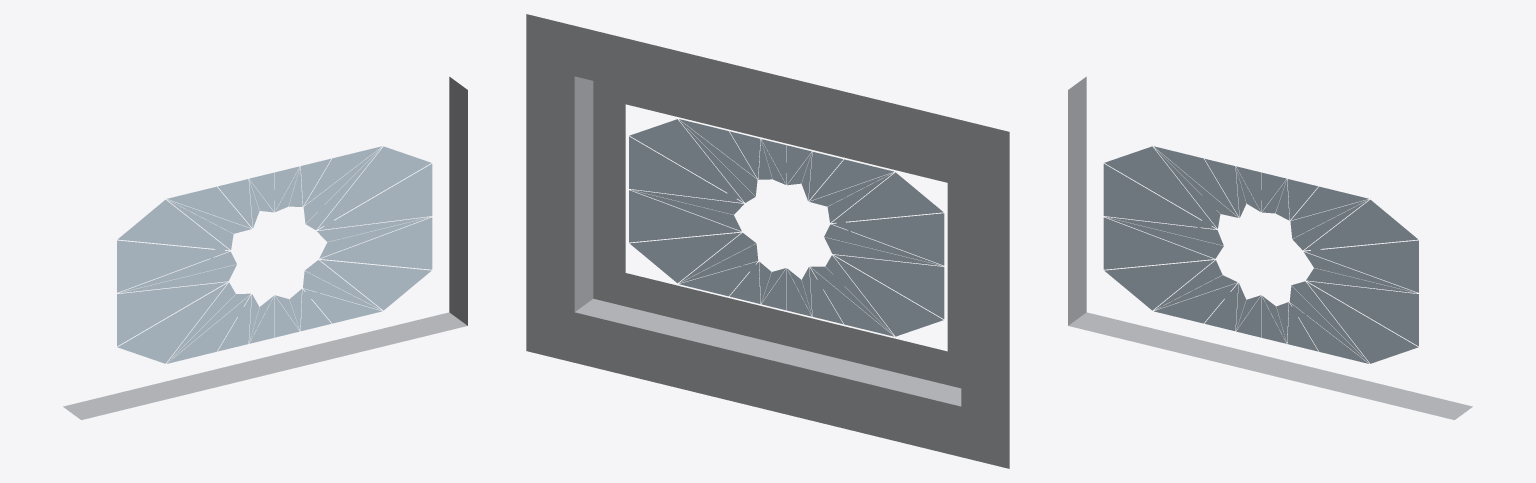
File: Window_broken.gltf
3 views of the same model, side by side, from view 1: azimuth 30°, elevation 25°; view 2: azimuth 150°, elevation 25°; view 3: azimuth 330°, elevation 25° (orthographic).
Visible parts, largest first — view 1: house_type02.001; view 2: house_type02.001; view 3: house_type02.001.
Boxes of the visible parts, left/top/right/bottom form: house_type02.001: left=63, top=76, right=467, bottom=419; house_type02.001: left=526, top=14, right=1009, bottom=468; house_type02.001: left=1068, top=76, right=1472, bottom=419.
Size of the model in its own units: 0.3 by 0.2 by 0.0201.
